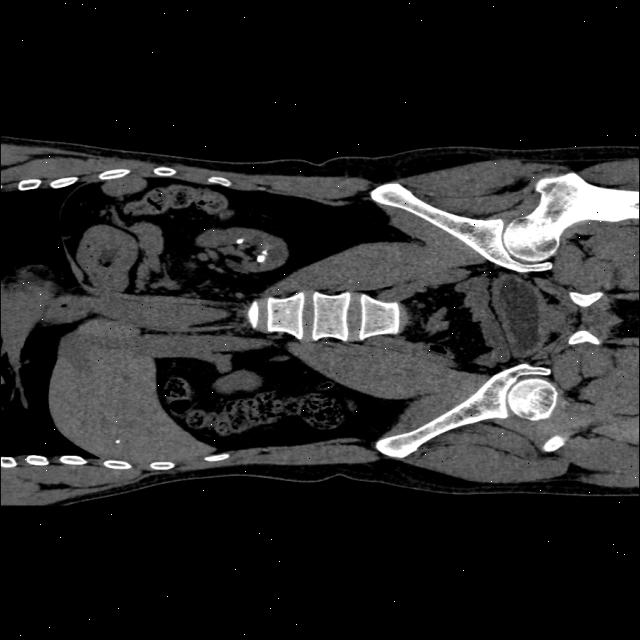kidneystone: (256, 249, 273, 269), (236, 238, 244, 244)
